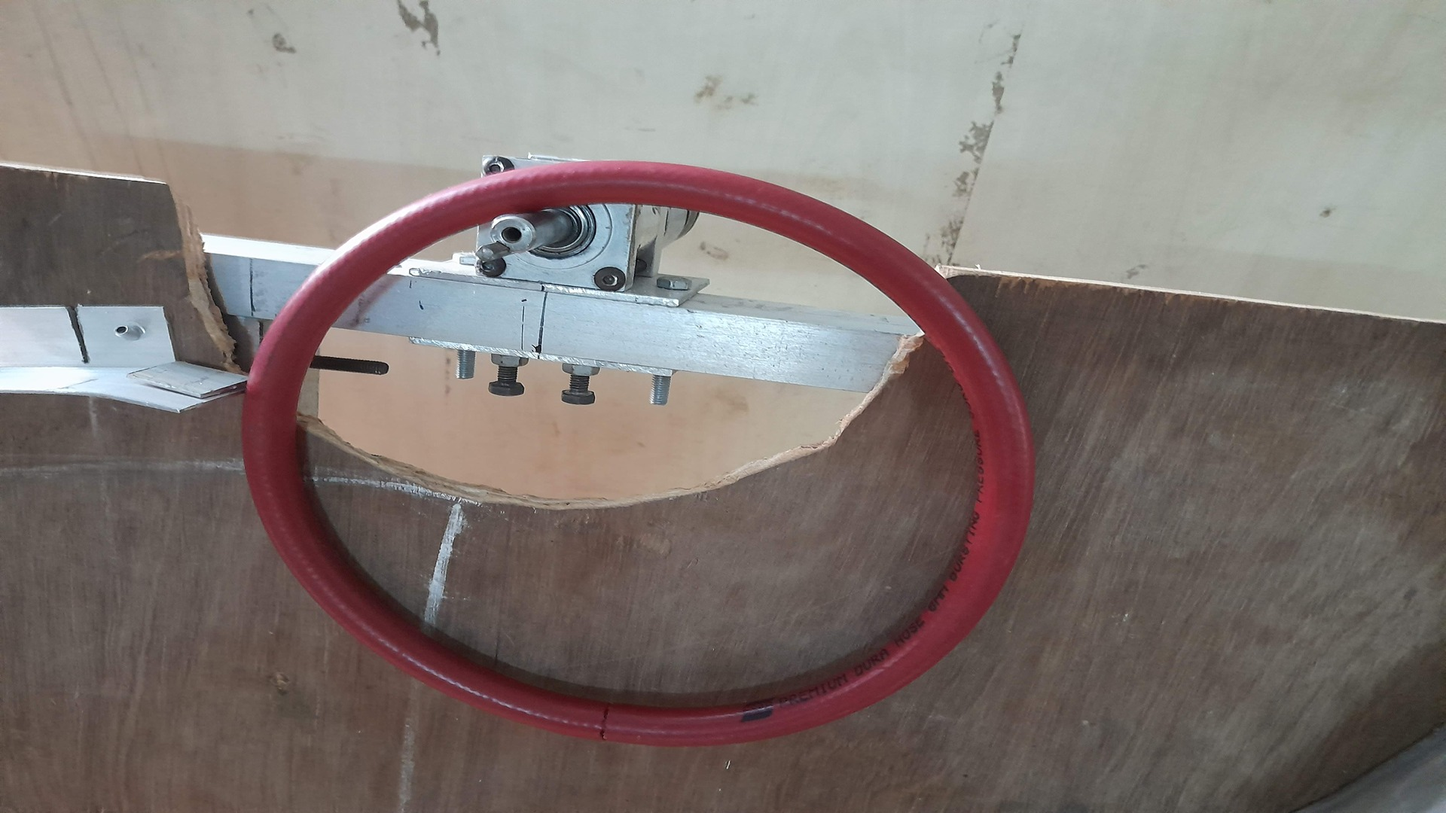Red ring: (241, 166, 1035, 744)
